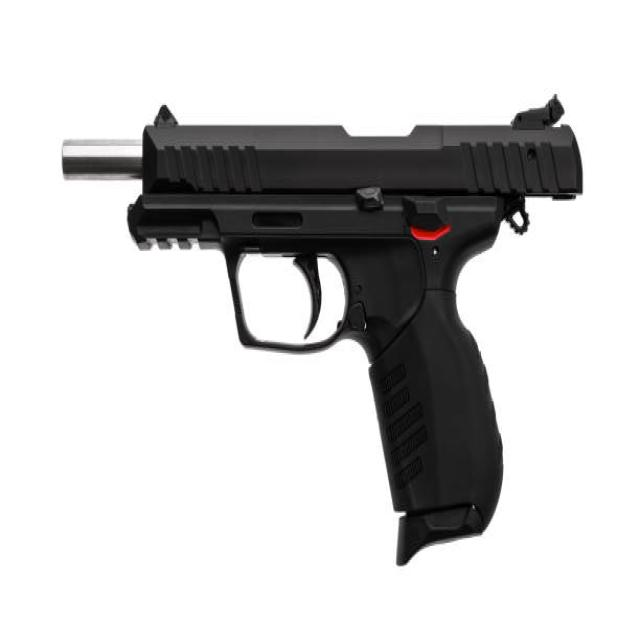pistol: (55, 87, 590, 574)
